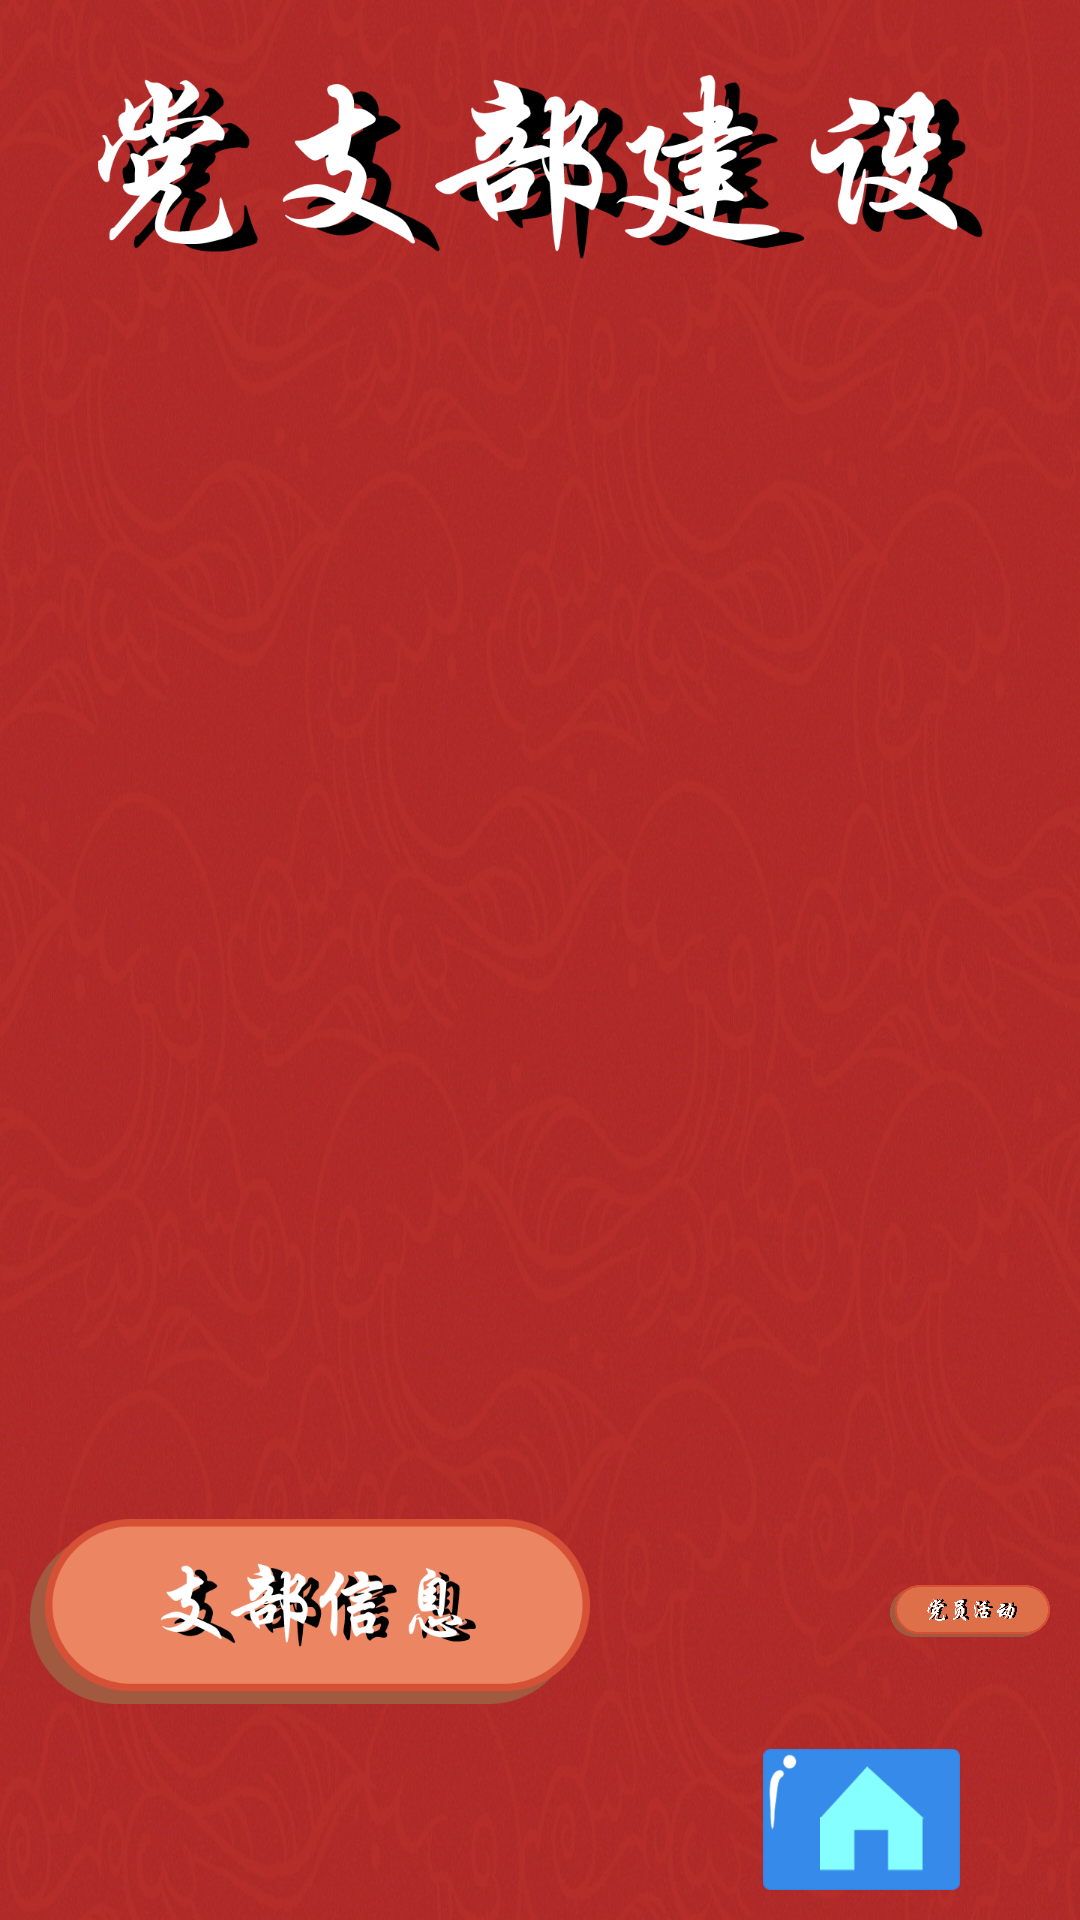

Screen size 1080 × 1920. Icon name, then its center in pixels as [x,y]:
home: [861,1819]
